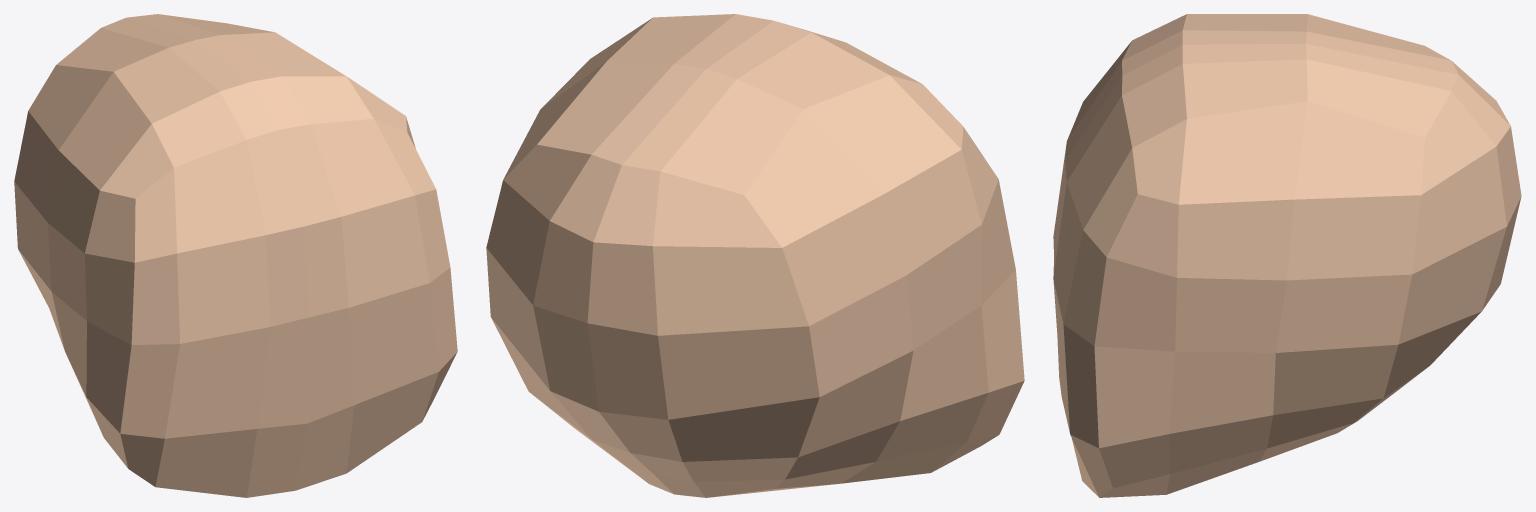
The model's file is Cabeza_Cachetona.fbx.
The picture shows the model from 3 angles, left to right: view 1: azimuth 30°, elevation 25°; view 2: azimuth 150°, elevation 25°; view 3: azimuth 270°, elevation 25°; orthographic projection. The views are drawn at different scales.
Parts seen in each view (by area): view 1: Cabeza_Cachetona1; view 2: Cabeza_Cachetona1; view 3: Cabeza_Cachetona1.
Part boxes in pixels (box(x1,y1,x2,y2)): Cabeza_Cachetona1: box(14, 14, 457, 497); Cabeza_Cachetona1: box(486, 14, 1024, 497); Cabeza_Cachetona1: box(1053, 14, 1521, 497).
Size of the model in its own units: 2.8 by 2.97 by 3.01.
